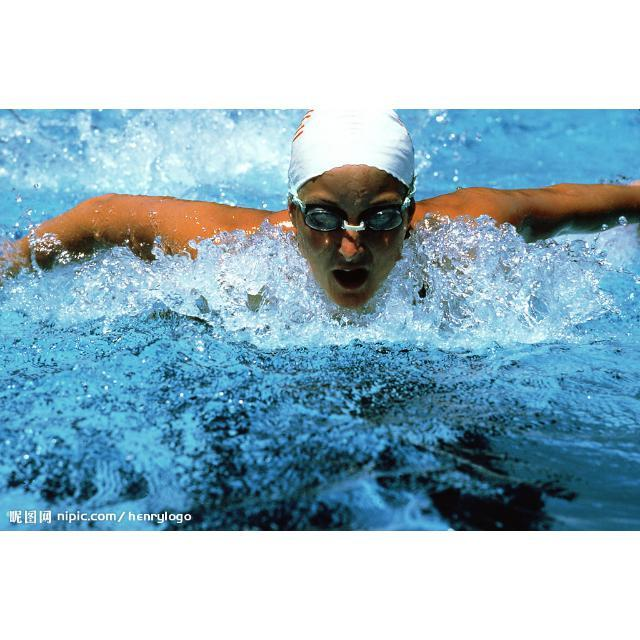human: (2, 111, 640, 311)
